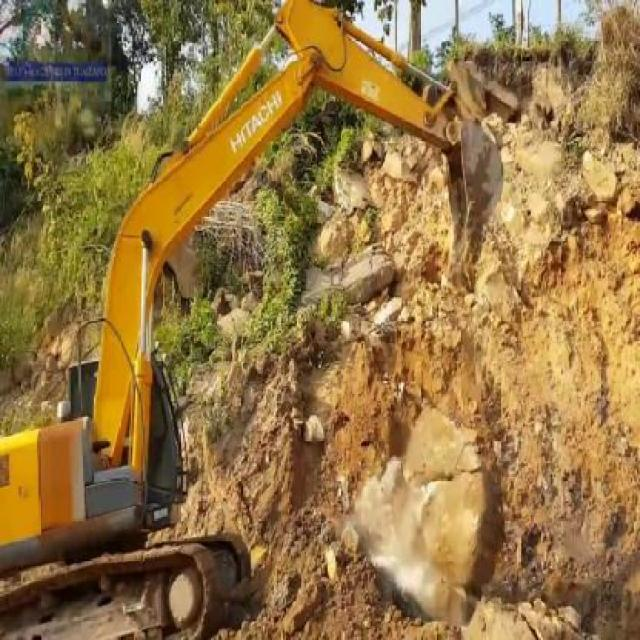Excavator: (5, 0, 503, 638)
